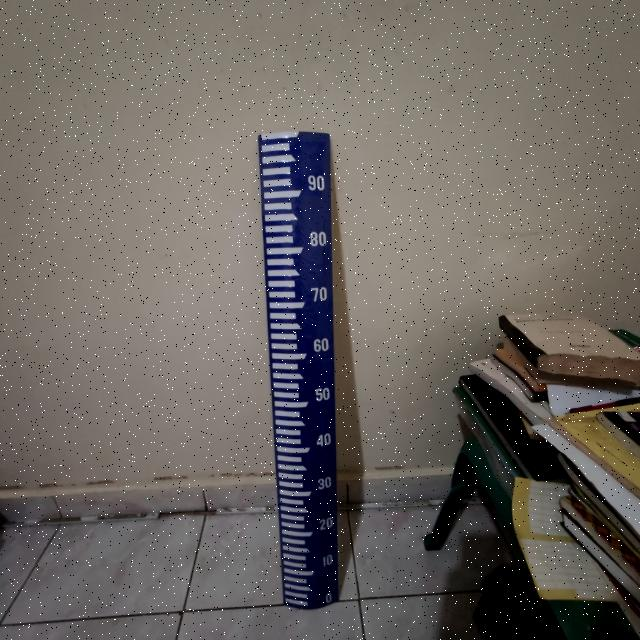10: (321, 553, 336, 568)
20: (319, 516, 334, 532)
30: (317, 476, 333, 491)
40: (316, 432, 332, 448)
50: (314, 386, 331, 402)
60: (311, 336, 330, 352)
70: (310, 284, 328, 304)
80: (309, 229, 328, 248)
90: (308, 174, 326, 191)
staff: (257, 133, 344, 607)
